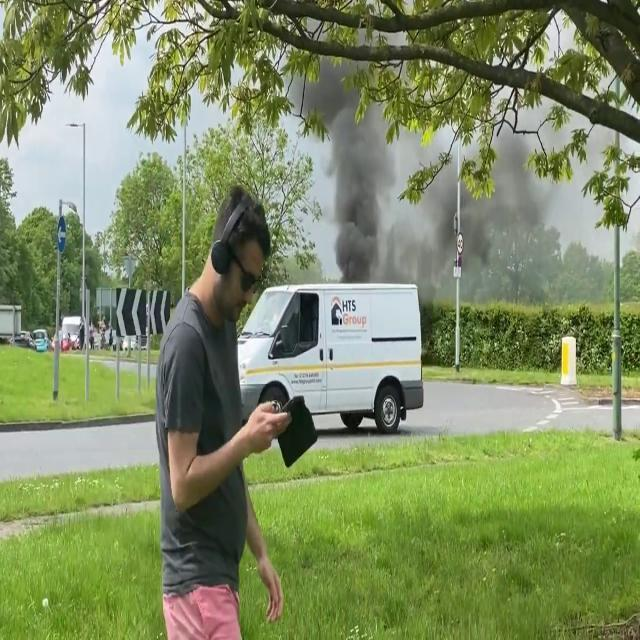Smoke: (308, 85, 566, 307)
